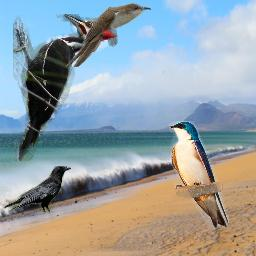Crow: (4, 166, 71, 213)
Cuckoo: (66, 3, 151, 67)
Swallow: (169, 121, 229, 228)
Woodpecker: (13, 14, 117, 161)
